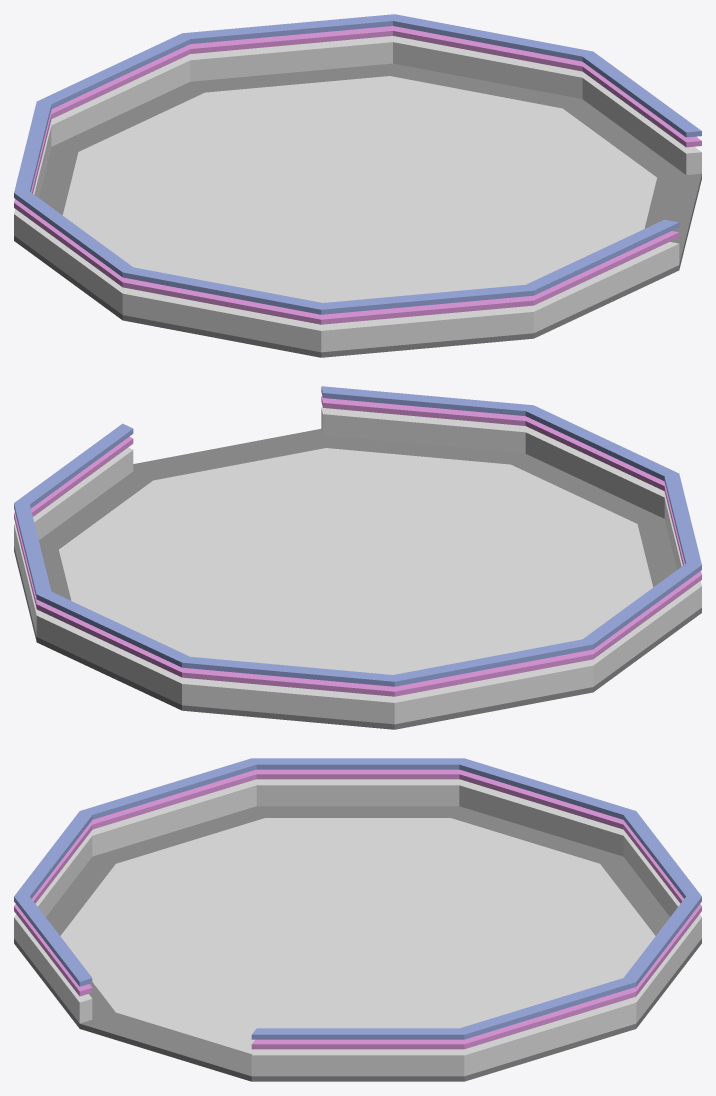
The model's file is gezegen (1).fbx.
The picture shows the model from 3 angles, top to bottom: view 1: azimuth 30°, elevation 25°; view 2: azimuth 150°, elevation 25°; view 3: azimuth 270°, elevation 25°; orthographic projection. The views are drawn at different scales.
Visible parts, largest first — view 1: Cylinder, Cylinder.003, Cylinder.002, Cylinder.004; view 2: Cylinder, Cylinder.003, Cylinder.002, Cylinder.004; view 3: Cylinder, Cylinder.003, Cylinder.002, Cylinder.004.
Boxes of the visible parts, x1,y1,x2,y2 form: Cylinder: (14, 63, 701, 357); Cylinder.003: (14, 36, 701, 352); Cylinder.002: (14, 14, 701, 314); Cylinder.004: (14, 26, 701, 324); Cylinder: (14, 429, 701, 729); Cylinder.003: (14, 407, 701, 724); Cylinder.002: (14, 386, 701, 686); Cylinder.004: (14, 396, 701, 696); Cylinder: (14, 806, 701, 1081); Cylinder.003: (14, 779, 701, 1076); Cylinder.002: (14, 758, 701, 1039); Cylinder.004: (14, 769, 701, 1049).
Size of the model in its own units: 896 by 71.01 by 942.
